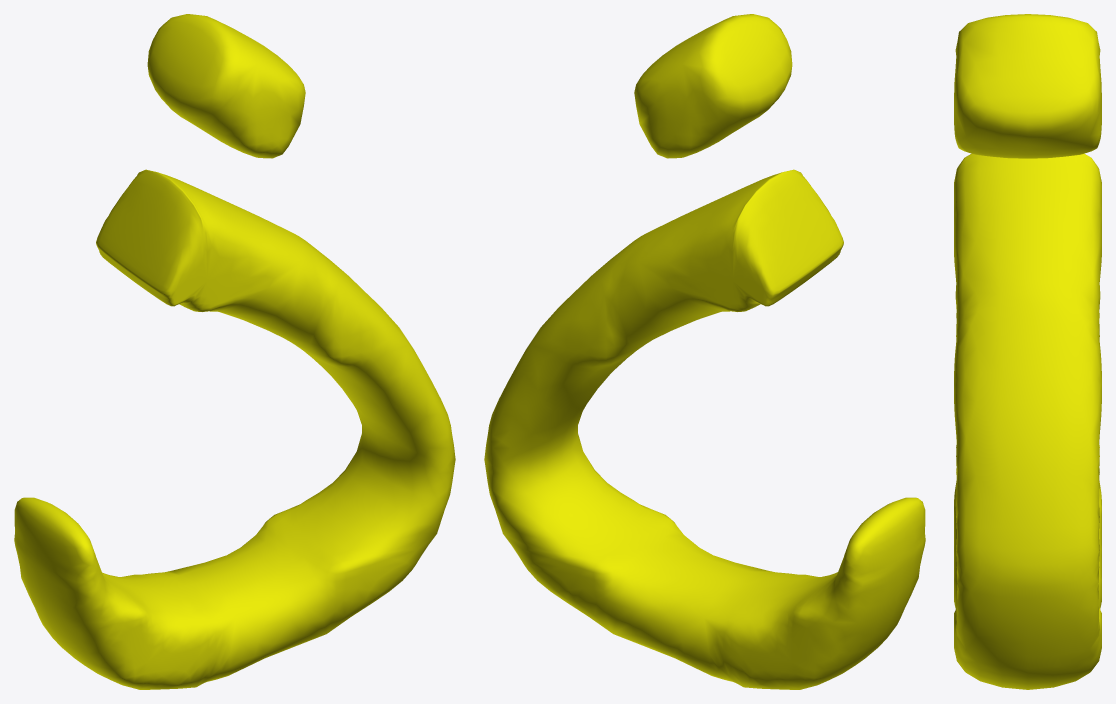
3 renders of one model, left to right at view 1: azimuth 30°, elevation 25°; view 2: azimuth 150°, elevation 25°; view 3: azimuth 270°, elevation 25°, orthographic.
Parts seen in each view (by area): view 1: char_1; view 2: char_1; view 3: char_1.
Part boxes in pixels (x1,y1,x2,y2): char_1: [14, 14, 455, 689]; char_1: [484, 14, 925, 689]; char_1: [954, 14, 1101, 689].
Size of the model in its own units: 4.39 by 6.78 by 1.4.
